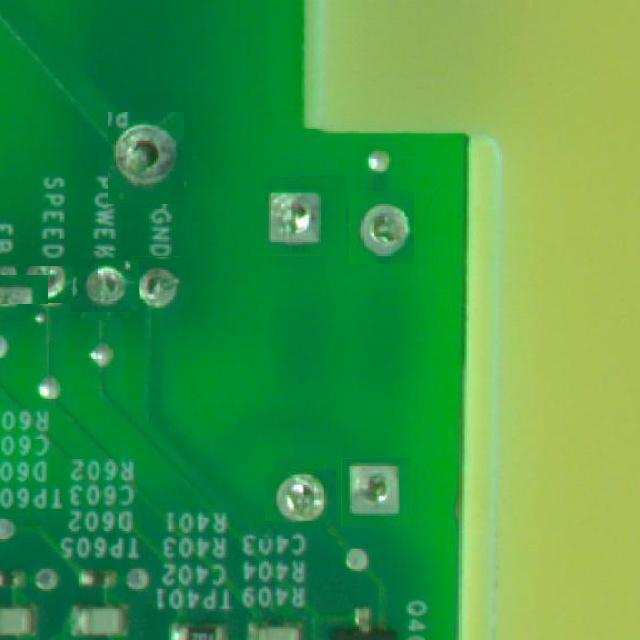lack_of_part: (104, 116, 188, 201), (265, 176, 345, 256), (348, 190, 414, 264), (341, 458, 410, 526), (132, 256, 194, 318), (270, 465, 331, 526), (74, 255, 135, 316), (21, 260, 68, 308), (0, 265, 39, 312)
